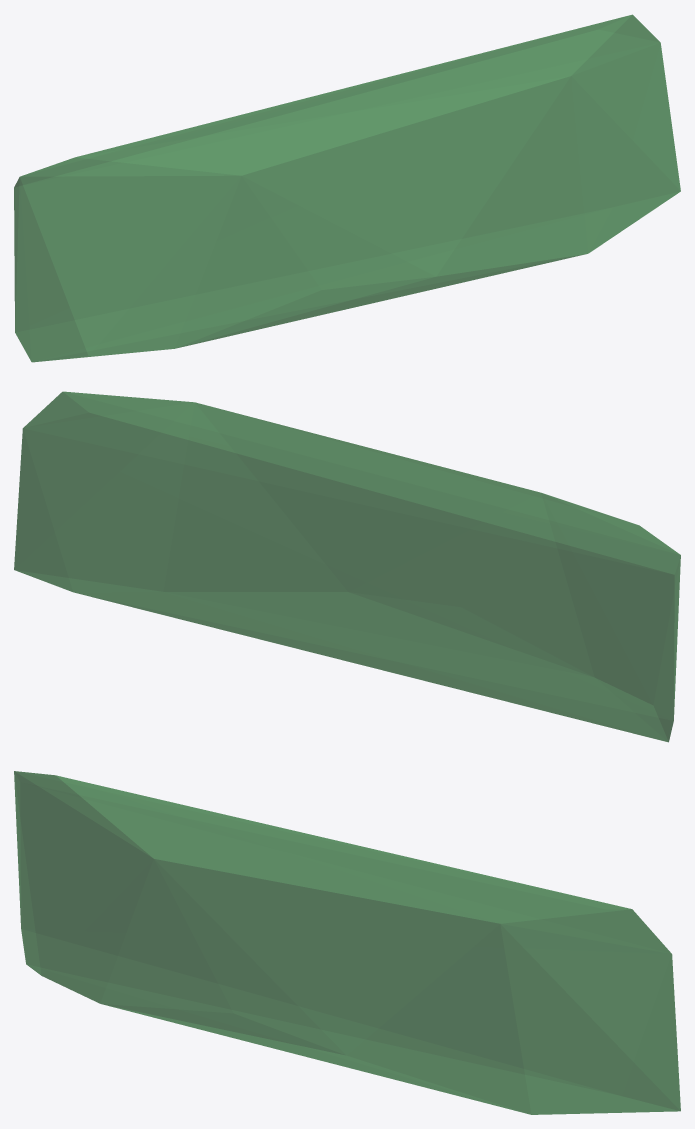
The picture shows the model from 3 angles, top to bottom: view 1: azimuth 30°, elevation 25°; view 2: azimuth 150°, elevation 25°; view 3: azimuth 330°, elevation 25°; orthographic projection.
Visible parts, largest first — view 1: Shape_IndexedFaceSet.003_Shape_IndexedFaceSet.767; view 2: Shape_IndexedFaceSet.003_Shape_IndexedFaceSet.767; view 3: Shape_IndexedFaceSet.003_Shape_IndexedFaceSet.767.
Part boxes in pixels (x1,y1,x2,y2): Shape_IndexedFaceSet.003_Shape_IndexedFaceSet.767: (14, 14, 680, 362); Shape_IndexedFaceSet.003_Shape_IndexedFaceSet.767: (14, 391, 680, 742); Shape_IndexedFaceSet.003_Shape_IndexedFaceSet.767: (14, 771, 680, 1114).
Size of the model in its own units: 0.2712 by 0.0789 by 0.035.
